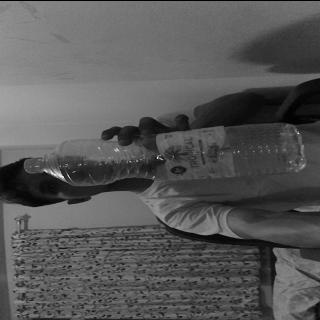plastic_bottles: (21, 122, 307, 186)
